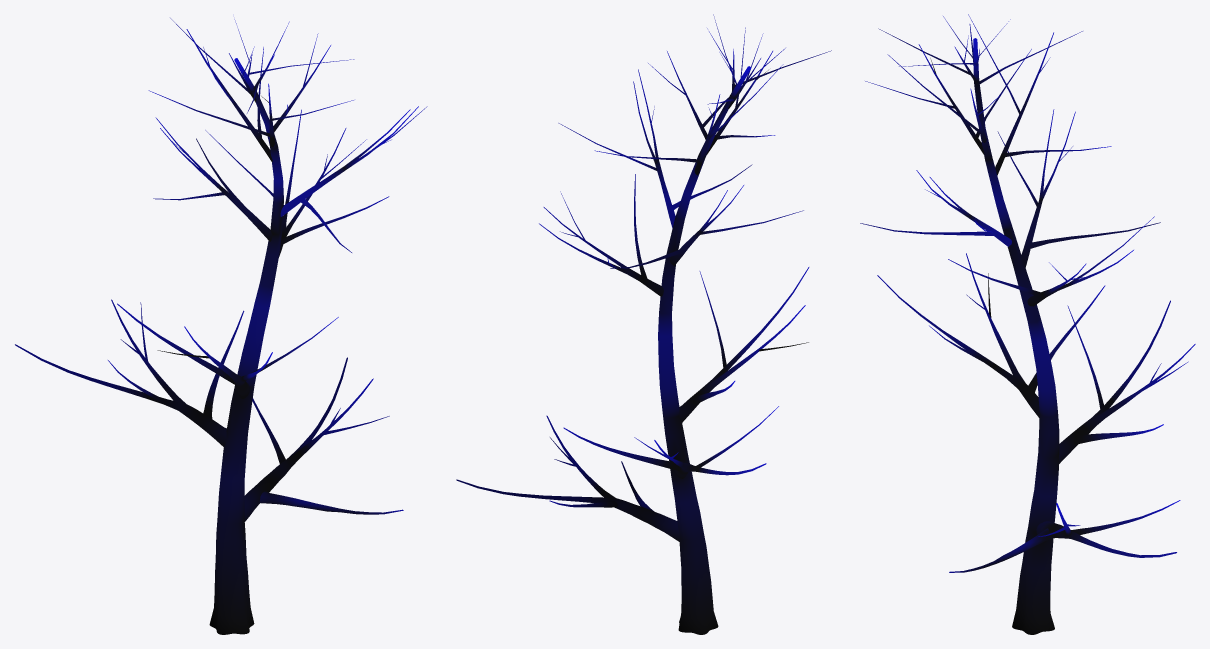
The model's file is Warped Trunk 001.fbx.
3 views of the same model, side by side, from view 1: azimuth 30°, elevation 25°; view 2: azimuth 150°, elevation 25°; view 3: azimuth 270°, elevation 25° (orthographic). The views are drawn at different scales.
Parts seen in each view (by area): view 1: Warped_Trunk_001_LOD0; view 2: Warped_Trunk_001_LOD0; view 3: Warped_Trunk_001_LOD0.
Boxes of the visible parts, x1,y1,x2,y2 form: Warped_Trunk_001_LOD0: (15, 18, 427, 634); Warped_Trunk_001_LOD0: (456, 14, 831, 634); Warped_Trunk_001_LOD0: (860, 14, 1195, 634).
Size of what is drawn, in the model's own units: 569 by 1009 by 510.
